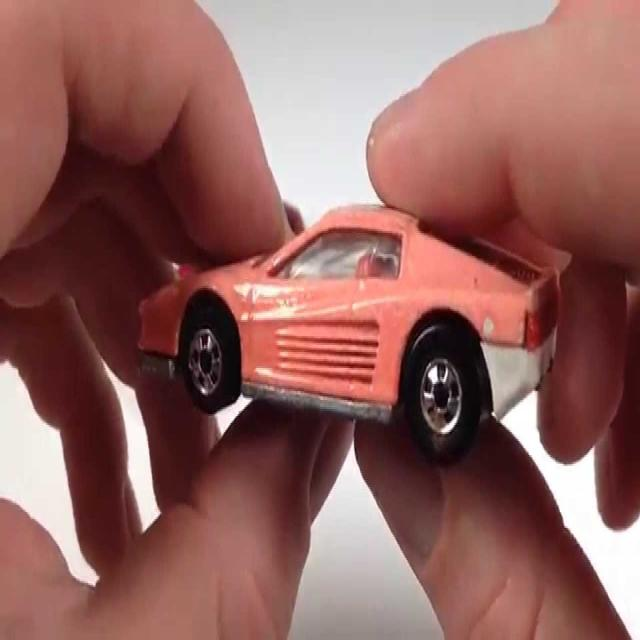Car: (136, 198, 562, 465)
